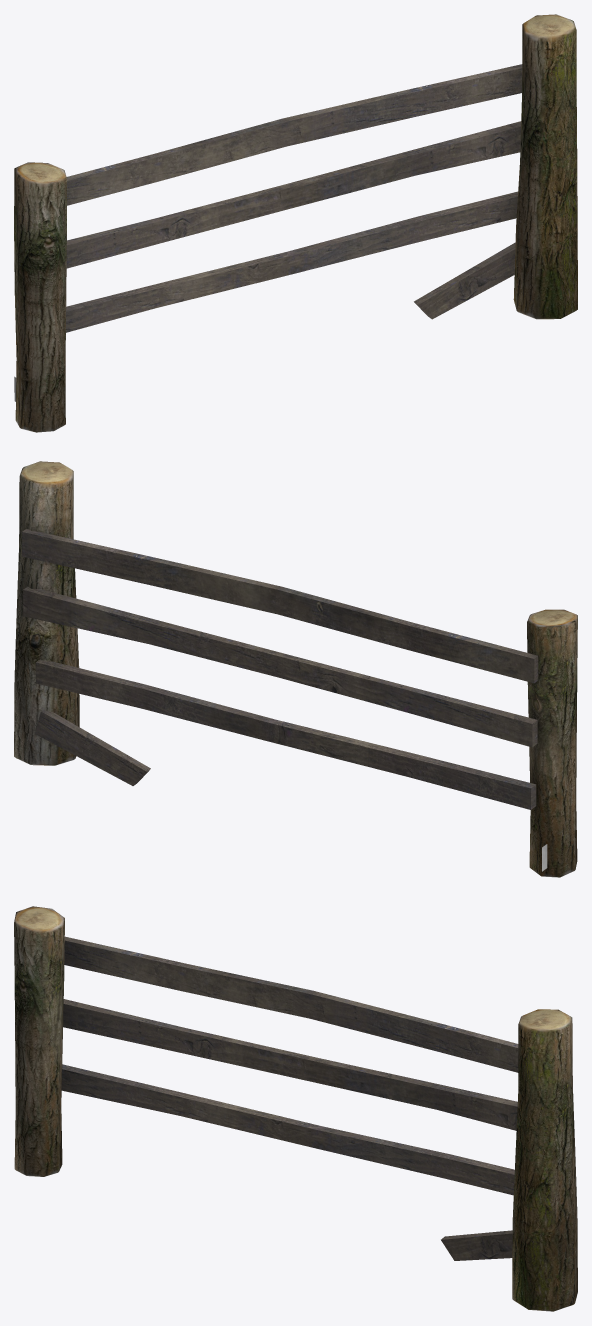
The model's file is fence_2.glb.
The picture shows the model from 3 angles, top to bottom: view 1: azimuth 30°, elevation 25°; view 2: azimuth 150°, elevation 25°; view 3: azimuth 330°, elevation 25°; orthographic projection.
Visible parts, largest first — view 1: fence_2; view 2: fence_2; view 3: fence_2.
Boxes of the visible parts, bbox=[...] form: fence_2: bbox=[14, 14, 577, 432]; fence_2: bbox=[14, 461, 577, 877]; fence_2: bbox=[14, 906, 577, 1311].
Size of the model in its own units: 3.91 by 1.89 by 0.4088.
1 material, 1 textured.
